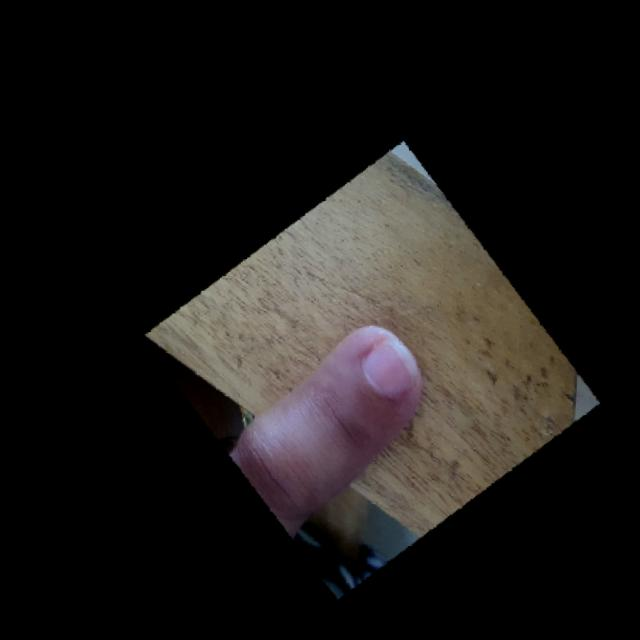Nail: (363, 340, 418, 395)
